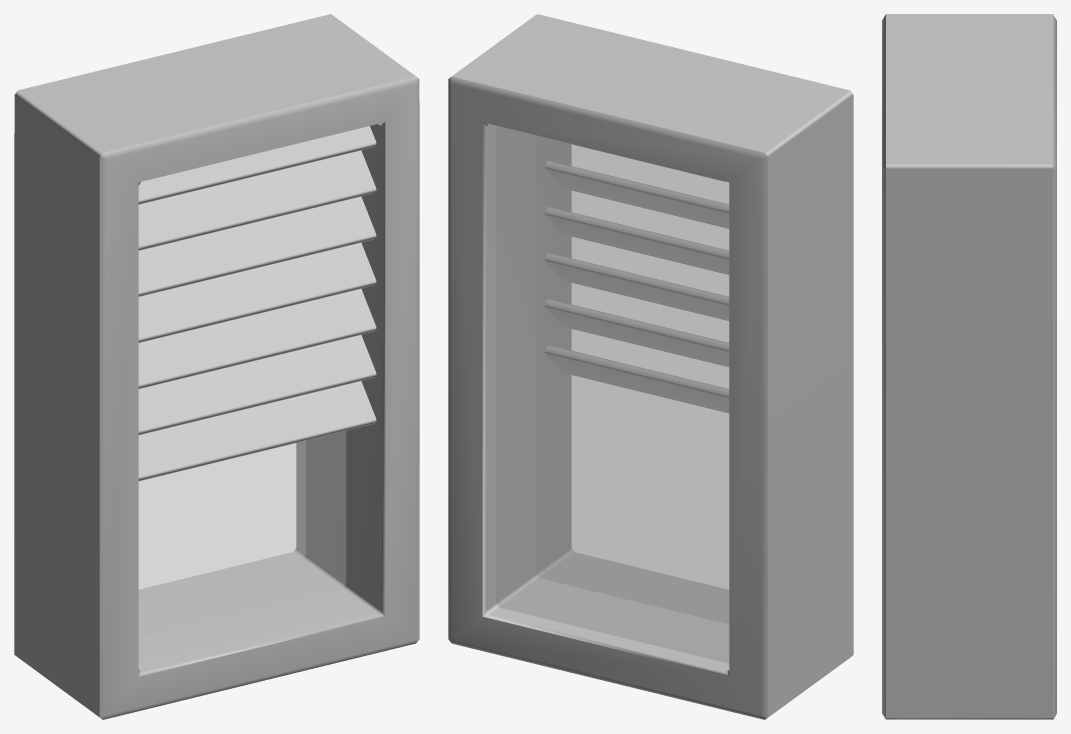
Rendered from Window_32.fbx.
The picture shows the model from 3 angles, left to right: view 1: azimuth 30°, elevation 25°; view 2: azimuth 150°, elevation 25°; view 3: azimuth 270°, elevation 25°; orthographic projection. The views are drawn at different scales.
Visible parts, largest first — view 1: Window_32; view 2: Window_32; view 3: Window_32.
Boxes of the visible parts, x1=… form: Window_32: x1=14, y1=14, x2=419, y2=719; Window_32: x1=448, y1=14, x2=853, y2=719; Window_32: x1=882, y1=14, x2=1056, y2=719.
Size of the model in its own units: 109 by 184 by 52.58.
